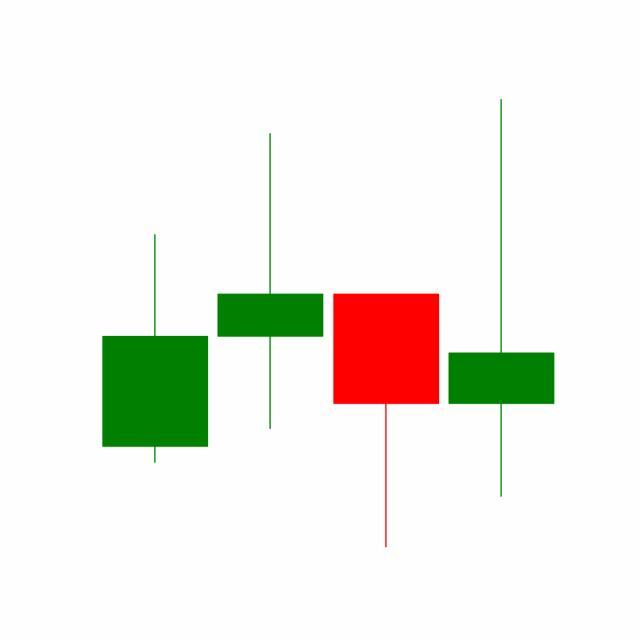Hammer: (329, 292, 445, 552)
